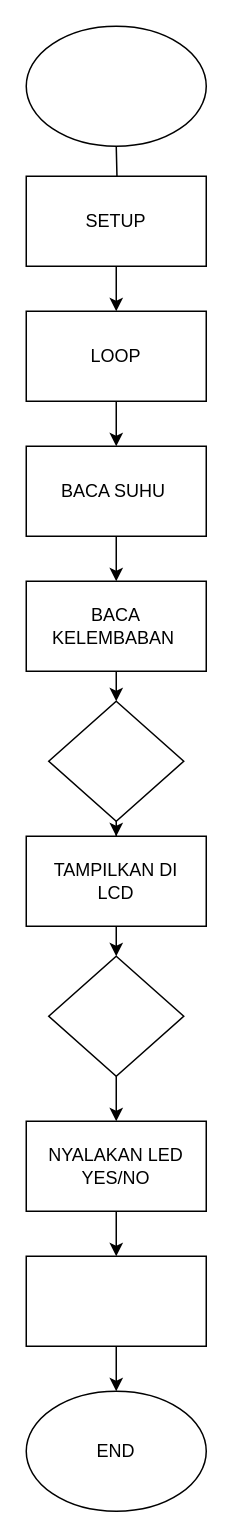
This 233x1538 diagram has some shape labels left out. Each missing label, with the box of its shape:
CHECK ERROR YES/NO: (47, 700, 184, 821)
DELAY: (25, 1255, 206, 1346)
START: (25, 25, 206, 146)
SUHU > 25 DERAJAT: (47, 955, 184, 1076)
